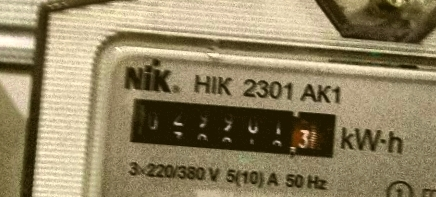0: (244, 109, 260, 135), (143, 108, 161, 130)
1: (269, 112, 284, 136)
2: (169, 107, 186, 127)
3: (295, 125, 310, 148)
9: (219, 109, 235, 132), (195, 107, 208, 130)
screen: (116, 86, 347, 168)
